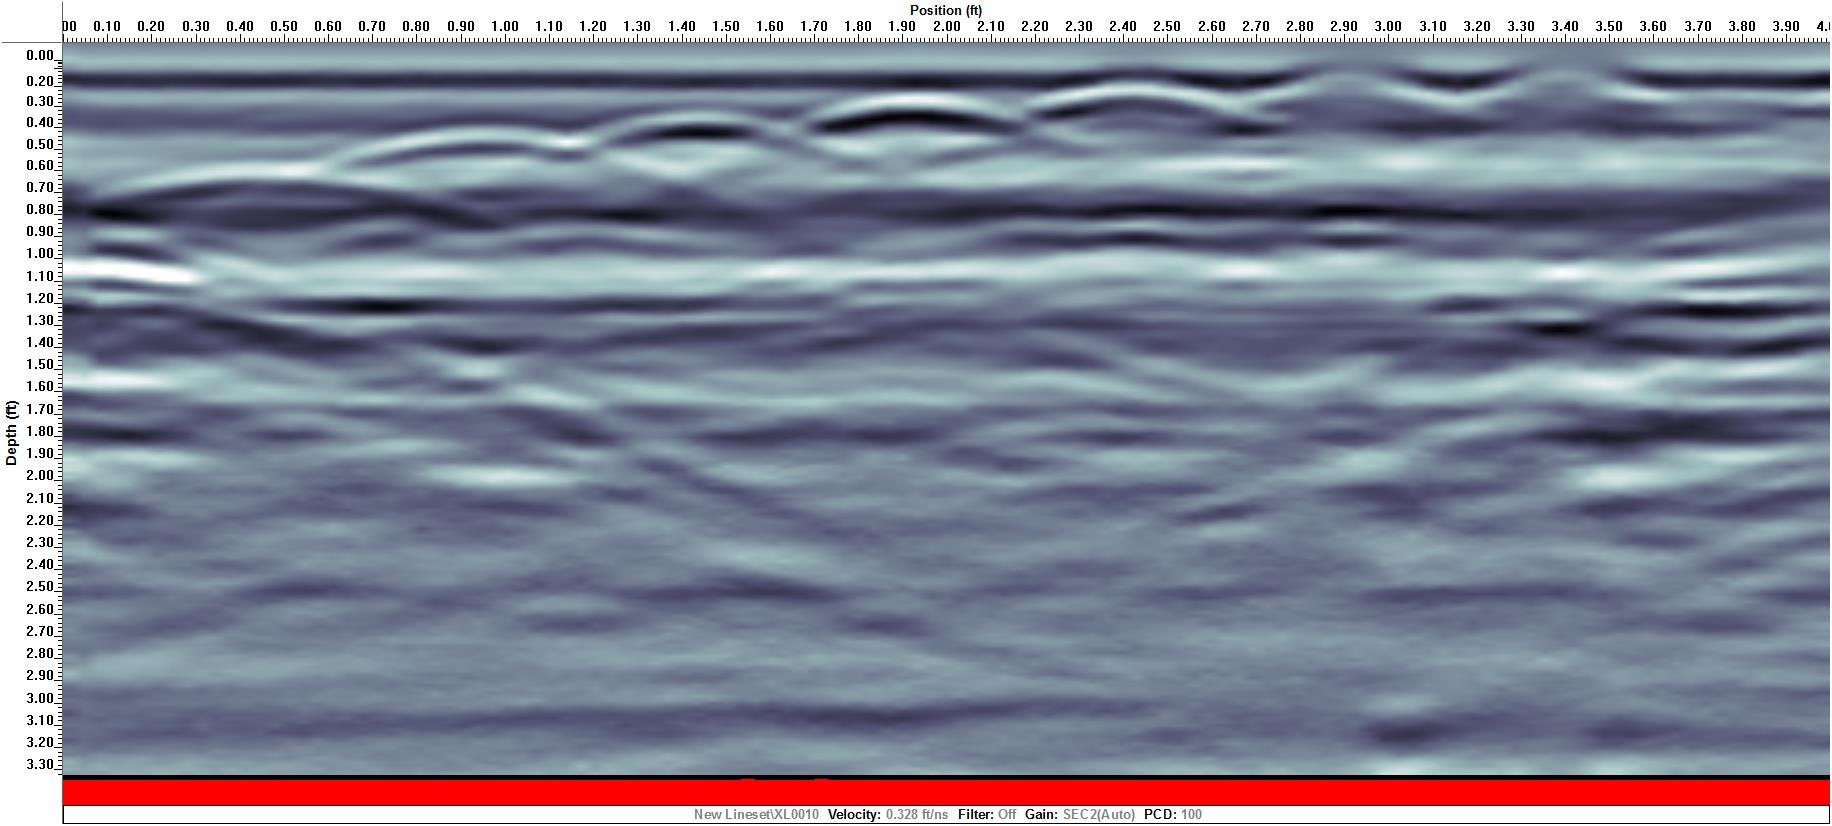hyperbola: (102, 144, 462, 230), (297, 111, 643, 189), (1002, 63, 1283, 154), (777, 76, 1069, 161), (544, 93, 845, 175)
